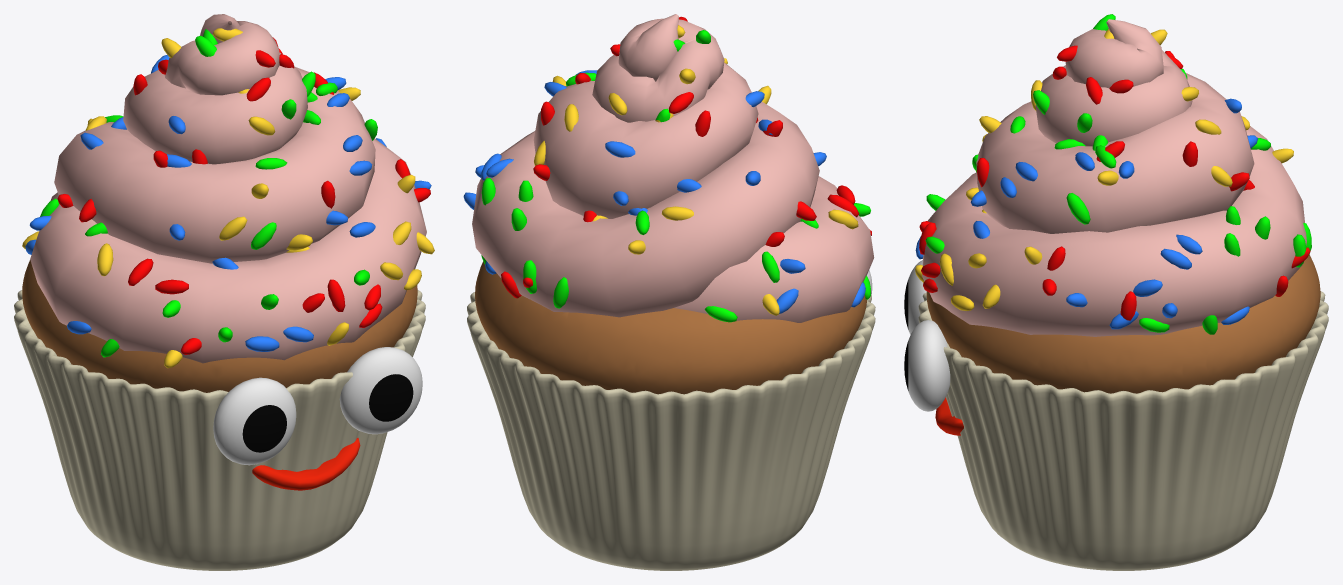
File: cravings-muffin.glb
3 renders of one model, left to right at view 1: azimuth 30°, elevation 25°; view 2: azimuth 150°, elevation 25°; view 3: azimuth 270°, elevation 25°, orthographic.
Visible parts, largest first — view 1: Sahne, Papier, Streusel, Muffin, Augen, Mund; view 2: Sahne, Papier, Muffin, Streusel; view 3: Sahne, Papier, Muffin, Streusel, Augen, Mund.
Part boxes in pixels (box(x1,y1,x2,y2)): Sahne: box(30, 14, 426, 363); Papier: box(14, 290, 425, 570); Streusel: box(22, 28, 434, 368); Muffin: box(22, 260, 417, 392); Augen: box(213, 347, 422, 465); Mund: box(252, 438, 360, 490); Sahne: box(472, 14, 874, 322); Papier: box(467, 292, 875, 570); Muffin: box(475, 261, 866, 394); Streusel: box(463, 16, 871, 322); Sahne: box(922, 19, 1306, 336); Papier: box(918, 291, 1328, 570); Muffin: box(926, 255, 1320, 393); Streusel: box(915, 14, 1311, 334); Augen: box(904, 260, 950, 411); Mund: box(935, 397, 963, 435).
Bounding box in the file's own units: 2.27 × 2.99 × 2.31.
7 materials, 1 textured.
